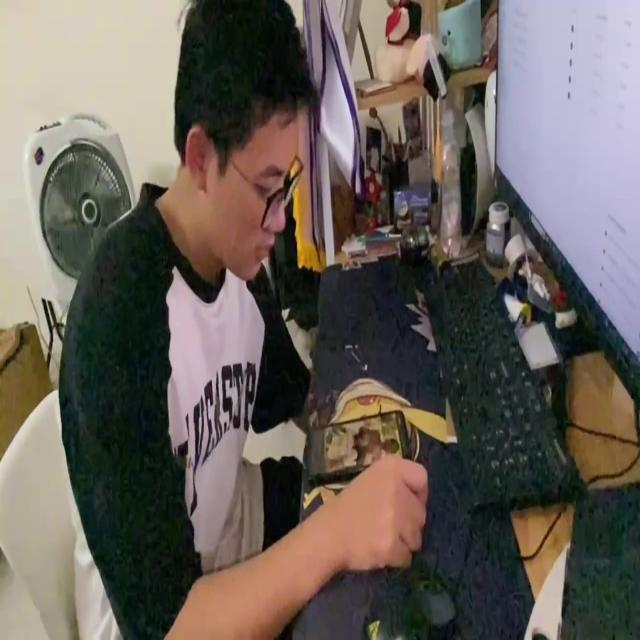laptop: (495, 0, 640, 407)
phone: (301, 410, 414, 480)
student: (49, 0, 431, 636)
